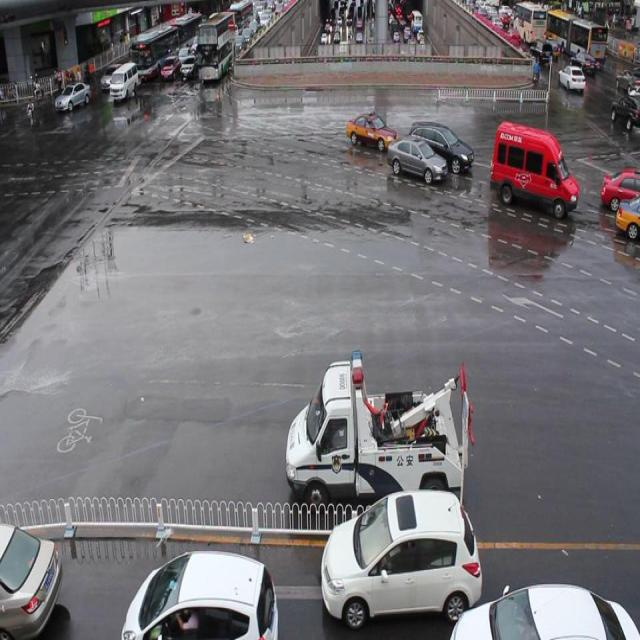bus: (284, 345, 472, 517)
car: (322, 490, 482, 624), (122, 546, 278, 640), (450, 579, 640, 640), (0, 518, 62, 640), (408, 121, 472, 175), (386, 137, 448, 183), (344, 112, 396, 150), (600, 167, 640, 211), (612, 197, 640, 237)
truck: (490, 119, 576, 218)
